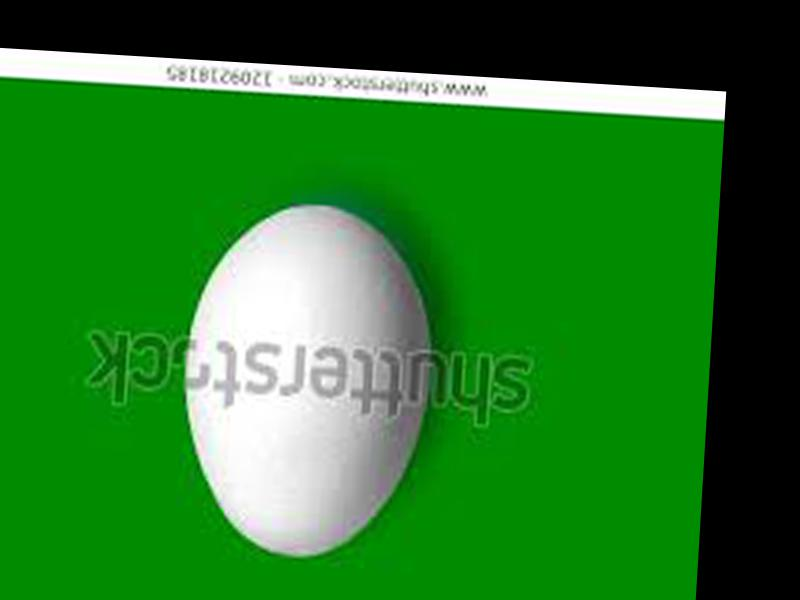Eggs: (176, 200, 441, 564)
